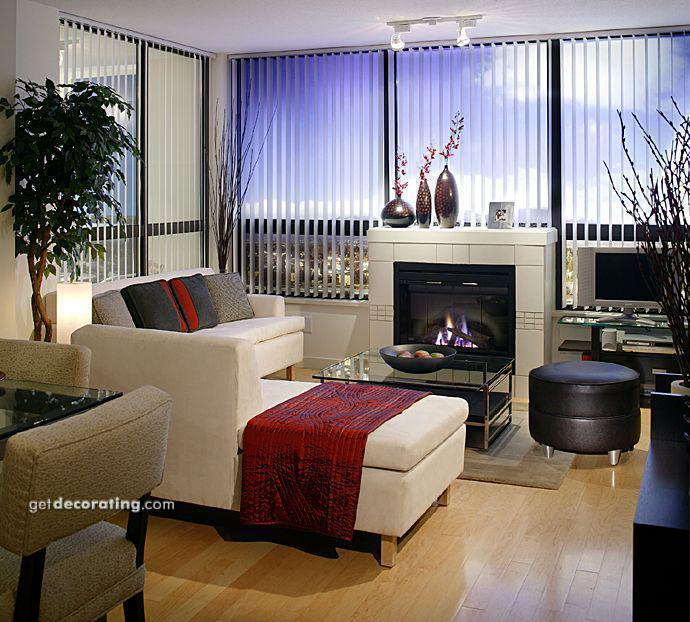Electrodomestico: (554, 236, 681, 323)
Ventana: (225, 63, 689, 315), (56, 18, 216, 274)
